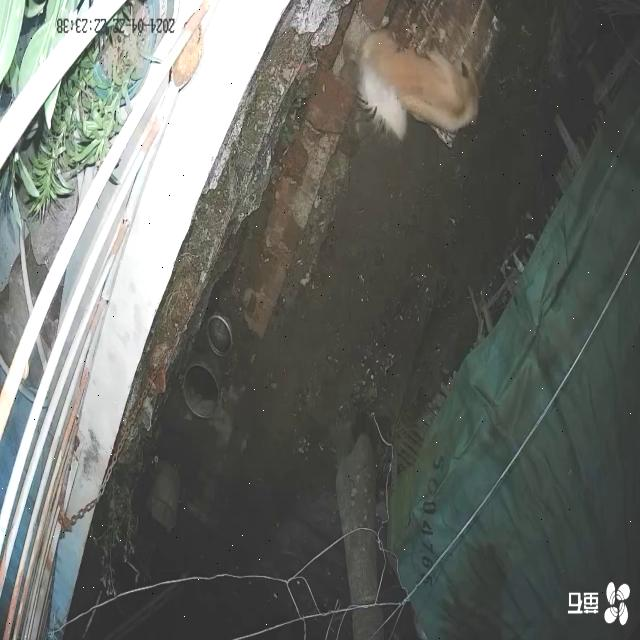dog: (359, 26, 483, 138)
